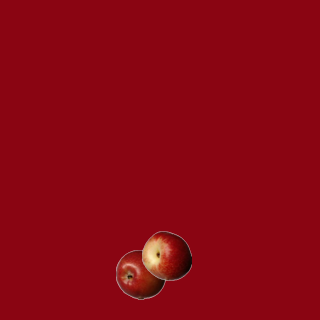Apple Braeburn: (115, 249, 165, 299)
Nectarine: (141, 230, 191, 280)
